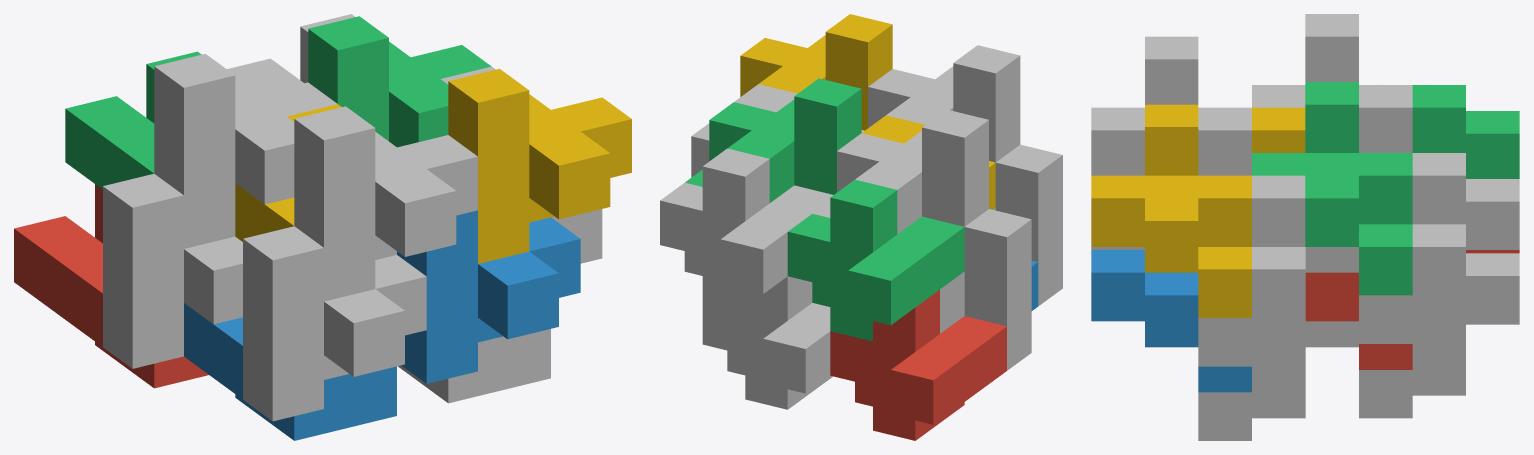
Rendered from tiling.obj.
3 views of the same model, side by side, from view 1: azimuth 30°, elevation 25°; view 2: azimuth 150°, elevation 25°; view 3: azimuth 270°, elevation 25° (orthographic). The views are drawn at different scales.
Parts seen in each view (by area): view 1: copy_2_domain_4, copy_2_domain_2, copy_2_domain_8, copy_2_domain_3, copy_2_domain_1, copy_2_domain_6, copy_2_domain_7, copy_1_domain_1, copy_1_domain_2, copy_1_domain_3, copy_1_domain_6, copy_1_domain_4 (+2 smaller); view 2: copy_1_domain_3, copy_1_domain_7, copy_1_domain_1, copy_2_domain_3, copy_1_domain_5, copy_2_domain_7, copy_2_domain_4, copy_2_domain_1, copy_2_domain_8, copy_2_domain_2, copy_1_domain_8, copy_1_domain_4; view 3: copy_2_domain_8, copy_2_domain_7, copy_1_domain_7, copy_1_domain_8, copy_2_domain_4, copy_1_domain_5, copy_2_domain_6, copy_2_domain_3, copy_1_domain_6, copy_1_domain_3, copy_2_domain_5, copy_1_domain_4.
Boxes of the visible parts, left/top/right/bottom form: copy_2_domain_4: left=294, top=106, right=477, bottom=301; copy_2_domain_2: left=243, top=226, right=426, bottom=421; copy_2_domain_8: left=448, top=69, right=631, bottom=263; copy_2_domain_3: left=154, top=54, right=337, bottom=248; copy_2_domain_1: left=103, top=174, right=242, bottom=368; copy_2_domain_6: left=397, top=210, right=580, bottom=383; copy_2_domain_7: left=308, top=16, right=491, bottom=147; copy_1_domain_1: left=14, top=184, right=208, bottom=388; copy_1_domain_2: left=184, top=303, right=396, bottom=440; copy_1_domain_3: left=65, top=51, right=201, bottom=189; copy_1_domain_6: left=398, top=329, right=550, bottom=403; copy_1_domain_4: left=235, top=104, right=341, bottom=241; copy_1_domain_3: left=787, top=179, right=964, bottom=341; copy_1_domain_7: left=660, top=148, right=833, bottom=310; copy_1_domain_1: left=830, top=289, right=1006, bottom=440; copy_2_domain_3: left=812, top=109, right=988, bottom=234; copy_1_domain_5: left=702, top=276, right=832, bottom=409; copy_2_domain_7: left=685, top=78, right=861, bottom=202; copy_2_domain_4: left=868, top=45, right=1020, bottom=162; copy_2_domain_1: left=940, top=209, right=1031, bottom=370; copy_2_domain_8: left=740, top=14, right=892, bottom=130; copy_2_domain_2: left=992, top=144, right=1062, bottom=305; copy_1_domain_8: left=691, top=84, right=864, bottom=177; copy_1_domain_4: left=862, top=115, right=995, bottom=209; copy_2_domain_8: left=1091, top=104, right=1251, bottom=317; copy_2_domain_7: left=1252, top=82, right=1412, bottom=295; copy_1_domain_7: left=1359, top=153, right=1519, bottom=343; copy_1_domain_8: left=1198, top=175, right=1358, bottom=366; copy_2_domain_4: left=1091, top=36, right=1251, bottom=175; copy_1_domain_5: left=1359, top=253, right=1519, bottom=418; copy_2_domain_6: left=1091, top=250, right=1251, bottom=392; copy_2_domain_3: left=1252, top=14, right=1412, bottom=152; copy_1_domain_6: left=1198, top=321, right=1358, bottom=440; copy_1_domain_3: left=1412, top=85, right=1519, bottom=178; copy_2_domain_5: left=1305, top=272, right=1412, bottom=369; copy_1_domain_4: left=1252, top=107, right=1305, bottom=152.
Size of the model in its own units: 8 by 6 by 8.
